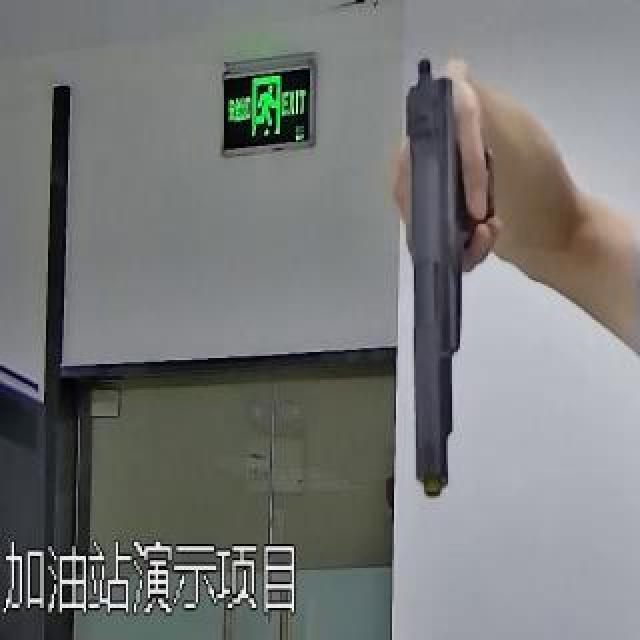Guns: (382, 37, 508, 517)
